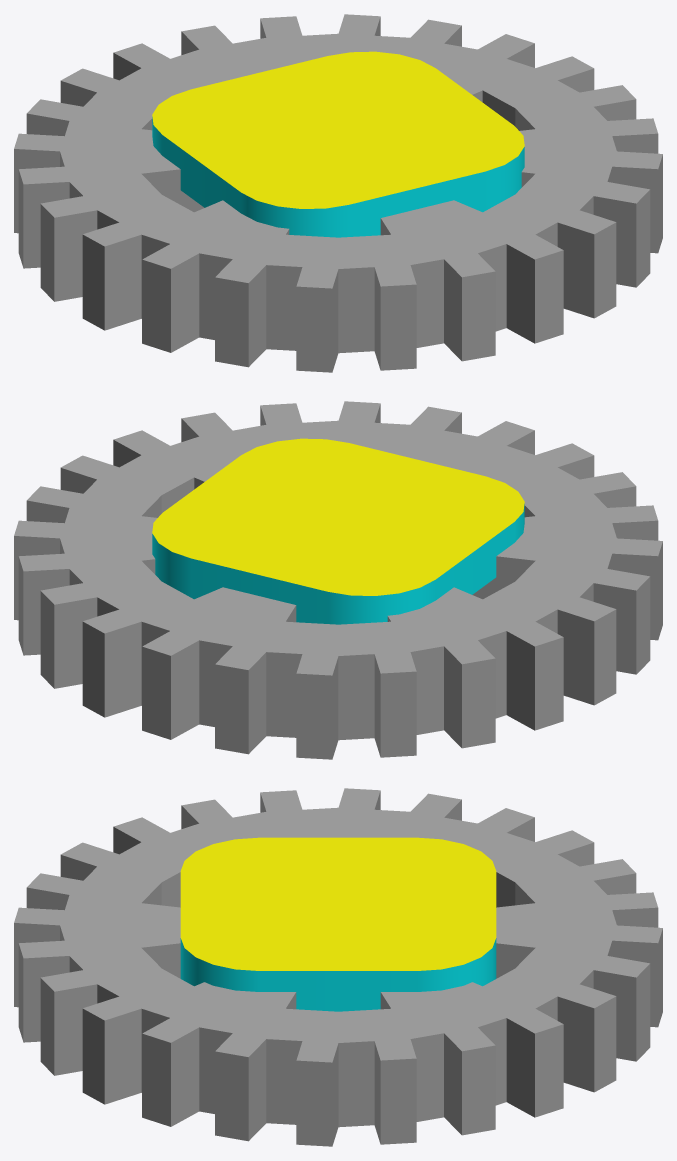
Rendered from gear_number.fbx.
The picture shows the model from 3 angles, top to bottom: view 1: azimuth 30°, elevation 25°; view 2: azimuth 150°, elevation 25°; view 3: azimuth 270°, elevation 25°; orthographic projection.
Parts seen in each view (by area): view 1: gear_main, button; view 2: gear_main, button; view 3: gear_main, button.
Boxes of the visible parts, x1,y1,x2,y2 form: gear_main: (14, 14, 662, 372); button: (152, 51, 524, 237); gear_main: (14, 401, 662, 759); button: (152, 438, 524, 624); gear_main: (14, 788, 662, 1146); button: (180, 837, 496, 1011).
Bounding box in the file's own units: 3.5 × 0.625 × 3.5.
